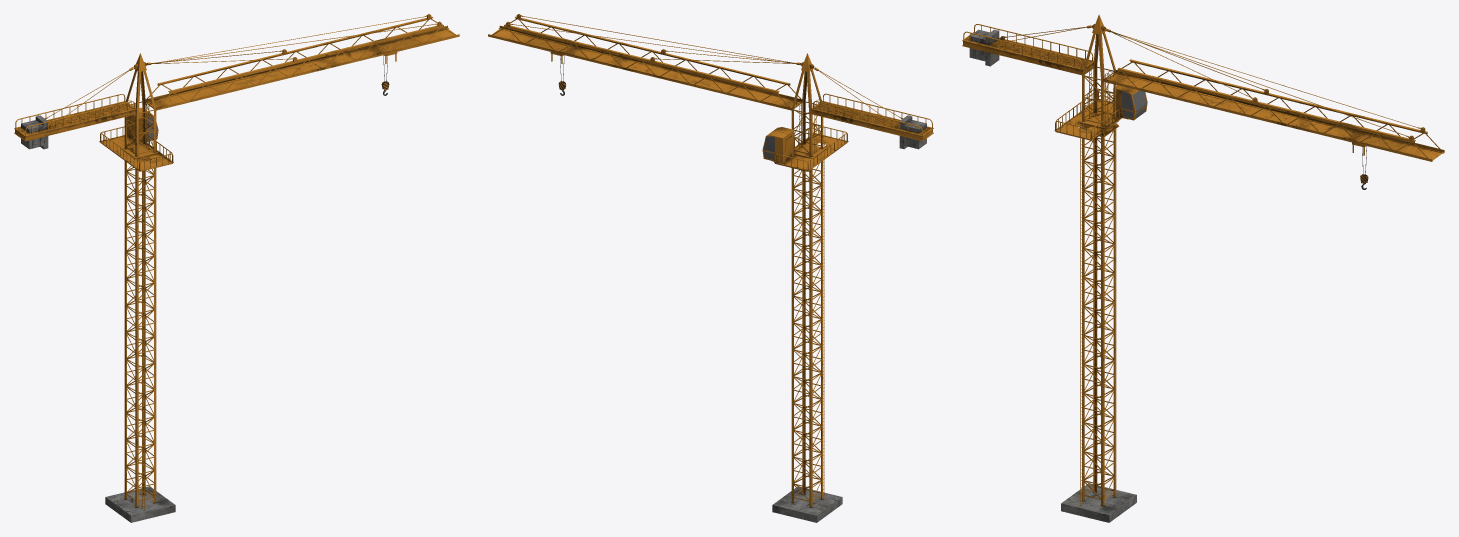
File: crane.glb
3 views of the same model, side by side, from view 1: azimuth 30°, elevation 25°; view 2: azimuth 150°, elevation 25°; view 3: azimuth 330°, elevation 25° (orthographic). The views are drawn at different scales.
Parts seen in each view (by area): view 1: Cube.052_UV_0, Cube.060_CONCRETE_0, Cube.056_frame_0; view 2: Cube.052_UV_0, Cube.060_CONCRETE_0, Cube.056_frame_0; view 3: Cube.052_UV_0, Cube.060_CONCRETE_0, Cube.056_frame_0, Slice.005_GLASS_0.
Part boxes in pixels (x1,y1,x2,y2): Cube.052_UV_0: (14,14,459,510); Cube.060_CONCRETE_0: (21,115,175,522); Cube.056_frame_0: (16,101,134,134); Cube.052_UV_0: (488,14,933,507); Cube.060_CONCRETE_0: (772,115,926,522); Cube.056_frame_0: (814,101,931,134); Cube.052_UV_0: (962,14,1444,506); Cube.060_CONCRETE_0: (969,29,1136,522); Cube.056_frame_0: (965,36,1092,68); Slice.005_GLASS_0: (1122,90,1146,119).
Size of what is drawn, in the model's own units: 7.16 by 7.17 by 1.15.
7 materials, 7 textured.
